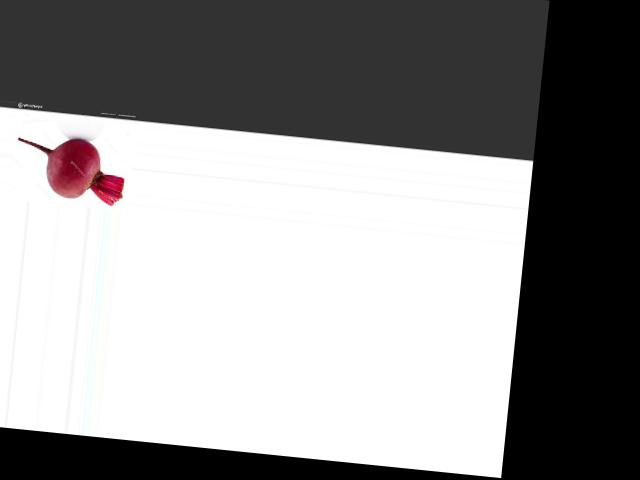beet: (12, 132, 128, 205)
